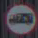Heavy Vehicles: (3, 2, 37, 36)
